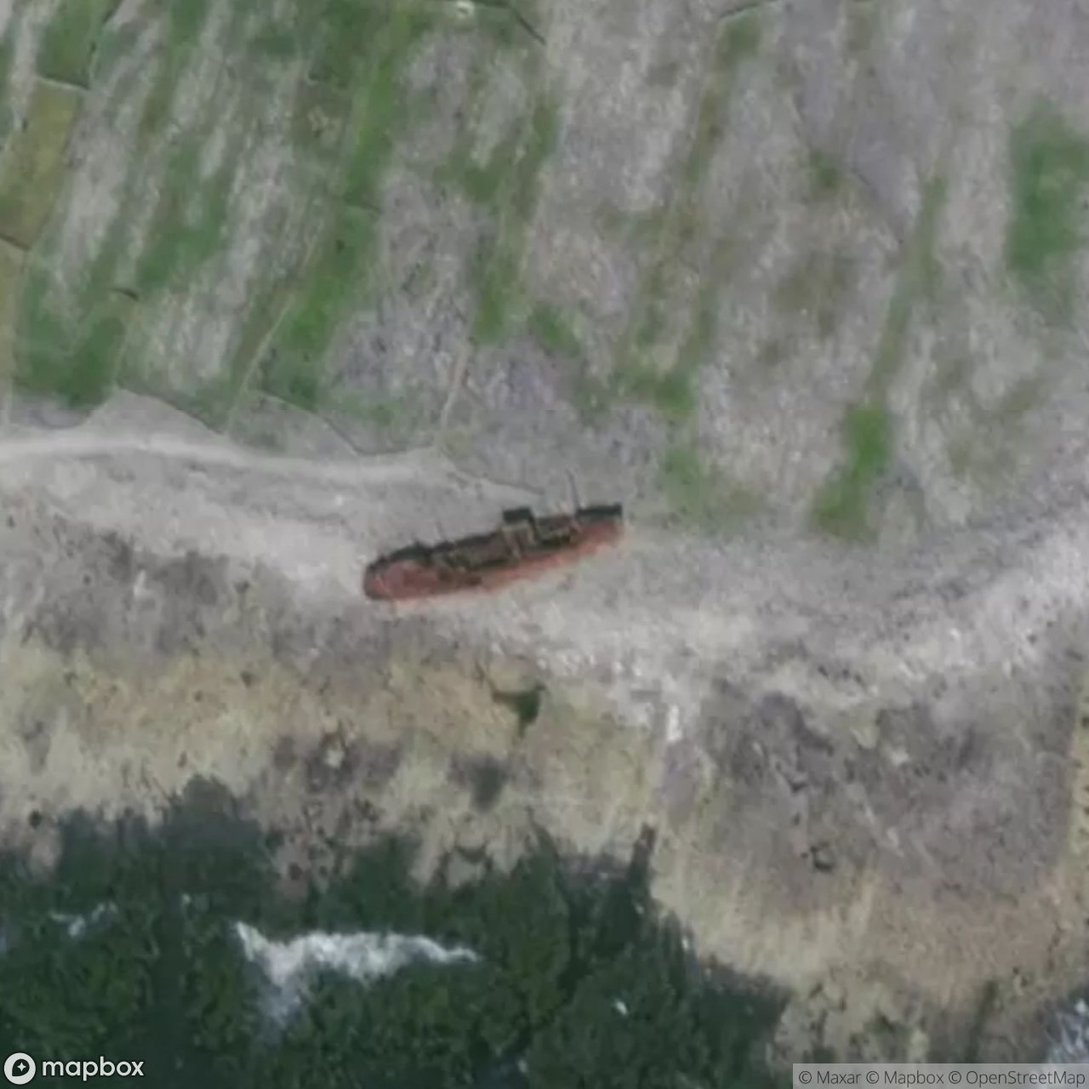Wreck: (298, 504, 684, 602)
